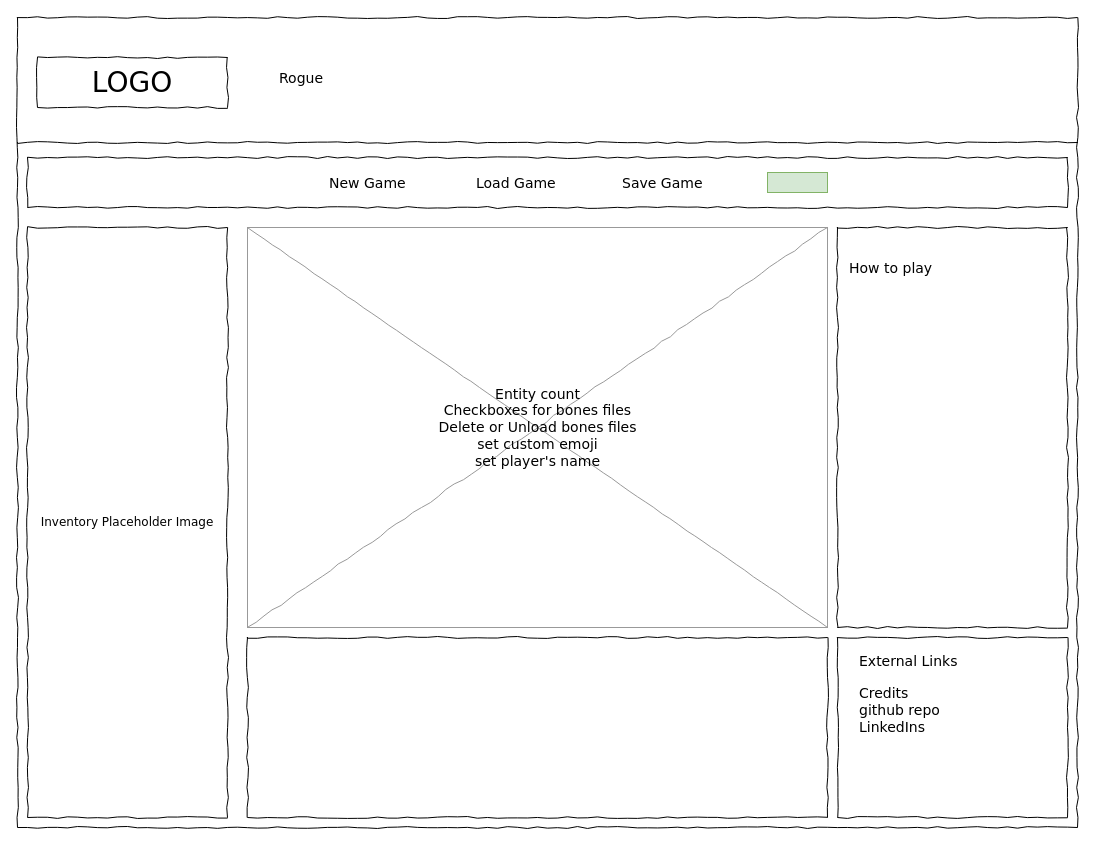
Some shapes in this 1095 by 845 pixel diagram are drawn without their labels. Here are the shapes that lost their labels. From the top down, the centre of each, then its label:
At pixel 797 182: "Options".
At pixel 537 727: "History of rogue".
